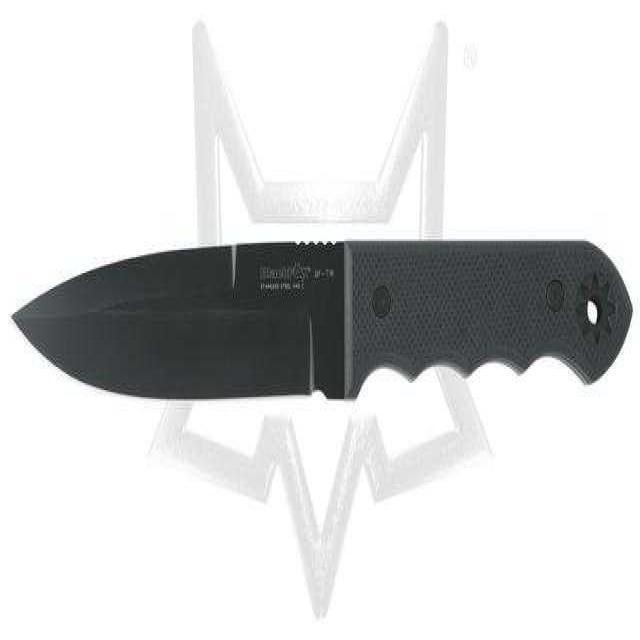Knife: (4, 237, 640, 434)
